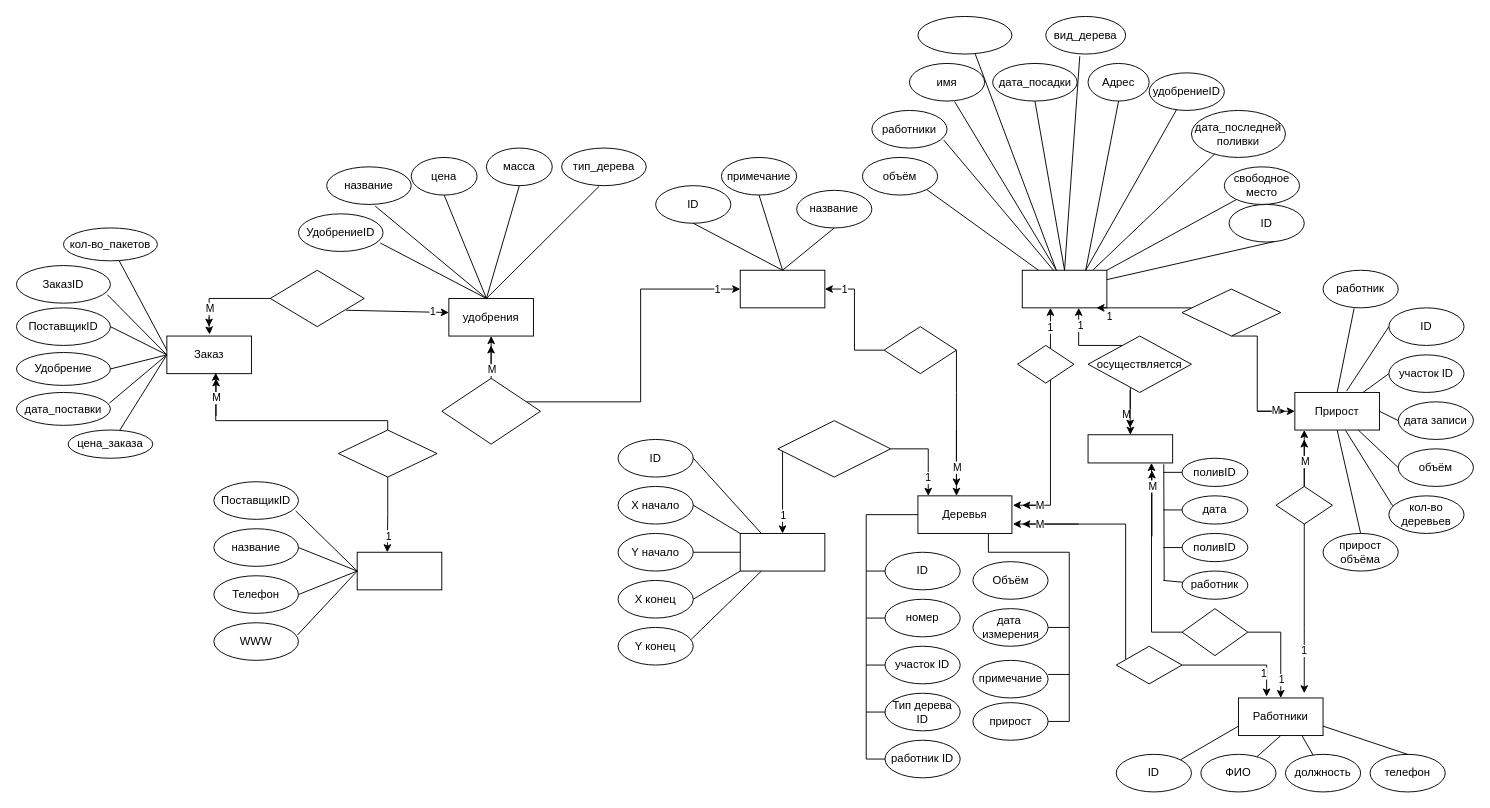
This 1490x808 diagram has some shape labels left out. The shapes that lost their labels are listed below. From the top down, each one's centre as x and y in pixels, then its label:
the point at 964,35: кол-ва_деревьев
the point at 316,298: содержиться
the point at 782,288: Тип дерева
the point at 1064,288: Участок
the point at 1231,312: Считается на
the point at 919,350: Делятся на
the point at 1045,364: растут
the point at 490,410: предназначен
the point at 387,453: доставляет
the point at 834,448: располагаются по
the point at 1130,448: поливка
the point at 1303,505: считают
the point at 399,570: Поставщик
the point at 782,552: Координаты
the point at 1214,632: поливает
the point at 1148,664: сажают
